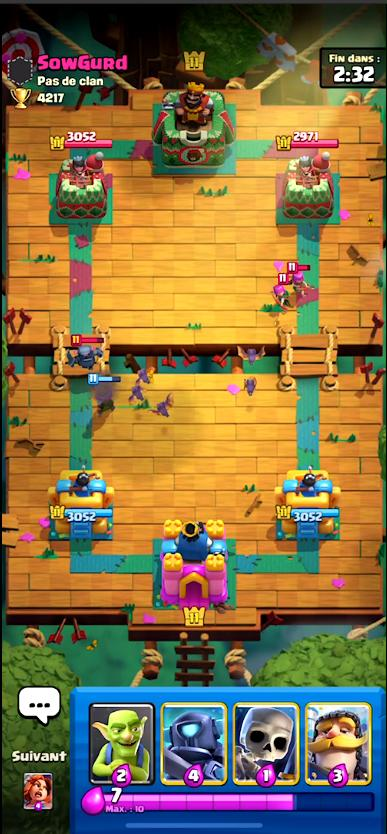archere: (272, 274, 295, 310), (289, 262, 312, 292)
mini_PEKKA: (67, 333, 107, 373)
mousquetaire: (87, 375, 119, 415)
